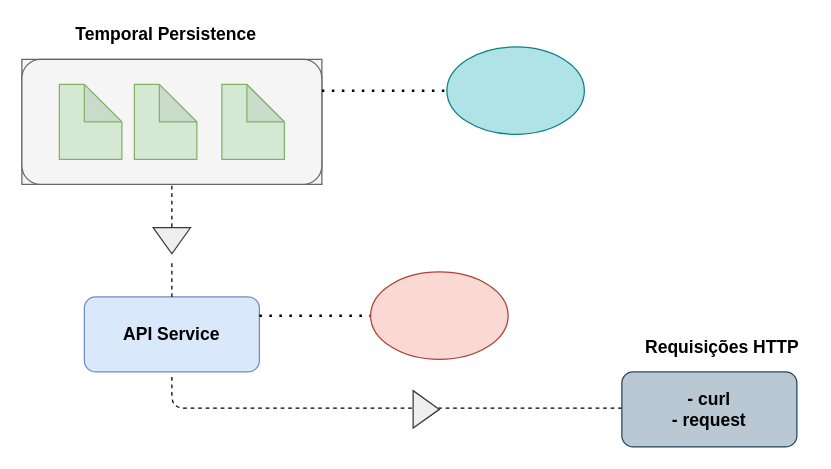
Some shapes in this 831 by 469 pixel diagram are drawn without their labels. Here are the shapes that lost their labels. From the top down, the centre of each, then its label:
the point at 515,90: Elasticsearch
the point at 438,315: FastAPI
